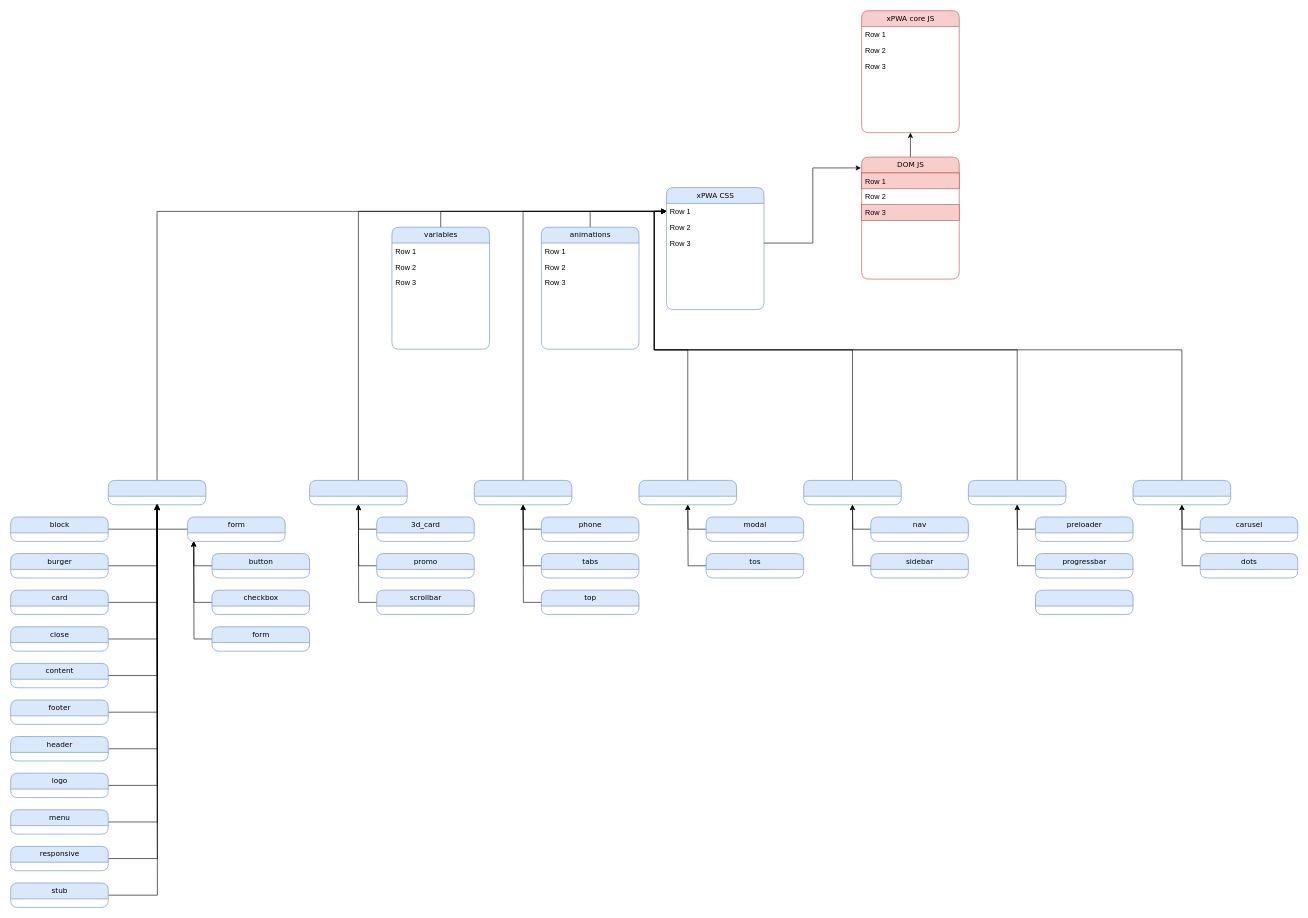
Some shapes in this 1308 by 918 pixel diagram are drawn without their labels. The centre of each missing label's shape, as x and y in pixels:
core_components: [157,492]
decorative_components: [358,492]
interactive_components: [523,492]
messages: [687,492]
navigation_panes: [852,492]
progress_components: [1017,492]
sliders: [1181,492]
stepprocessing: [1084,602]
